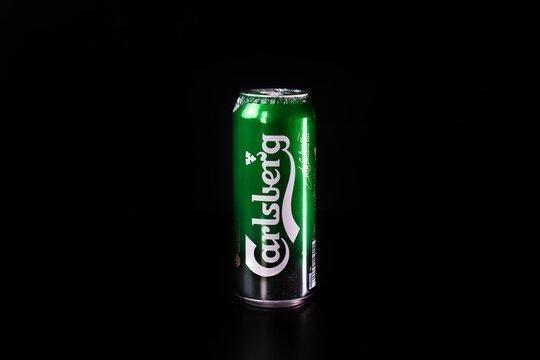tin can: (230, 84, 319, 310)
